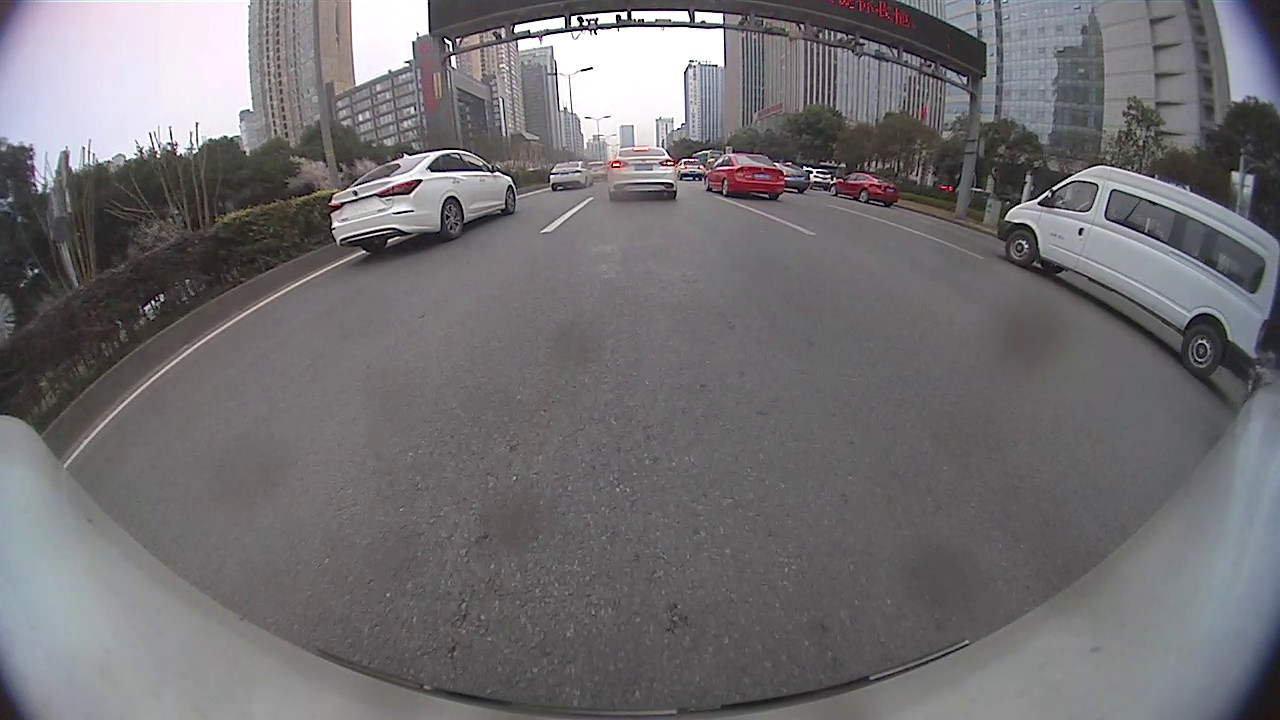car: (995, 162, 1279, 377), (329, 147, 518, 254), (606, 143, 679, 203), (705, 153, 788, 202), (826, 171, 902, 208), (547, 158, 594, 192), (774, 164, 811, 193), (677, 159, 707, 180)
front: (1005, 229, 1037, 268), (504, 186, 517, 215)
rear: (1181, 324, 1222, 377), (442, 201, 464, 240)
